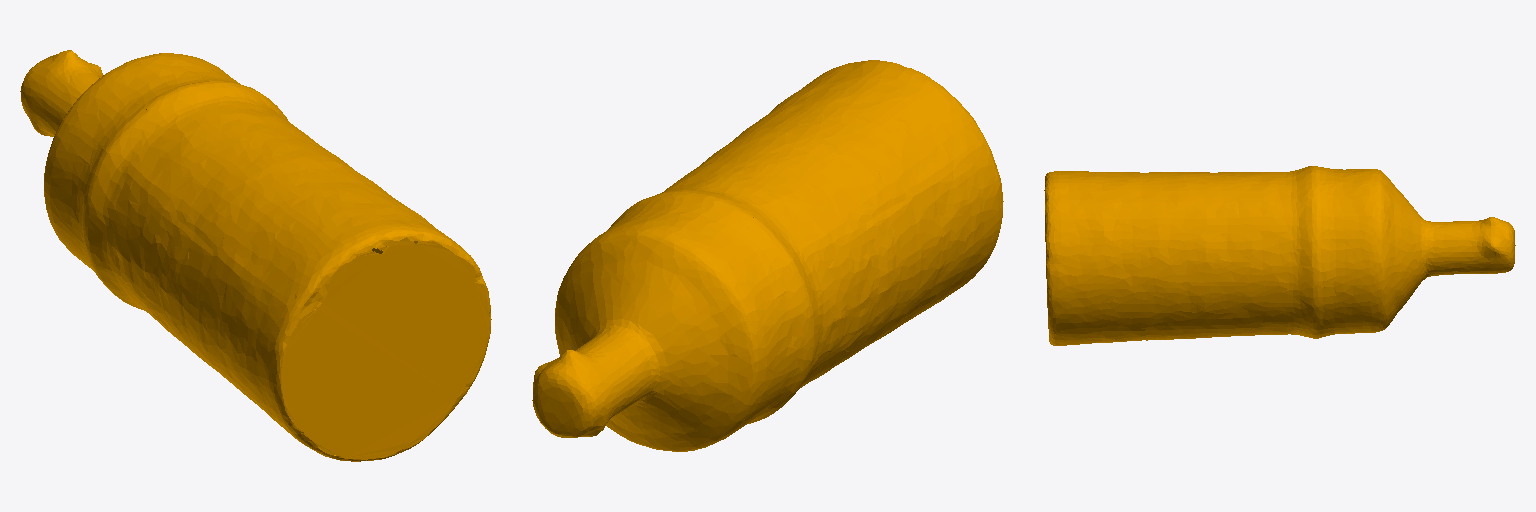
robot.urdf — saucebottle:
<?xml version="1.0" ?>
<!-- auto-generated by gen_object_urdf.py (TactiDex import) -->
<robot name="saucebottle">
  <link name="bottom">
    <inertial>
      <origin rpy="0 0 0" xyz="0.00010243769 -0.0043213832 -0.00010894224"/>
      <mass value="0.3"/>
      <inertia ixx="0.00054527728" ixy="6.8418971e-07" ixz="-3.5976885e-07"
               iyy="0.00012598923" iyz="-1.1894247e-05" izz="0.0005446421"/>
    </inertial>
    <visual>
      <origin rpy="0 0 0" xyz="0 0 0"/>
      <geometry><mesh filename="SauceBottle.obj" scale="1 1 1"/></geometry>
    </visual>
      <collision>
        <origin rpy="0 0 0" xyz="0 0 0"/>
        <geometry><mesh filename="collision_parts/part_000.obj" scale="1 1 1"/></geometry>
      </collision>
      <collision>
        <origin rpy="0 0 0" xyz="0 0 0"/>
        <geometry><mesh filename="collision_parts/part_001.obj" scale="1 1 1"/></geometry>
      </collision>
      <collision>
        <origin rpy="0 0 0" xyz="0 0 0"/>
        <geometry><mesh filename="collision_parts/part_002.obj" scale="1 1 1"/></geometry>
      </collision>
  </link>
</robot>

--- Render facts (derived) ---
Views: 3 orthographic renders of the robot side by side, from view 1: azimuth 30°, elevation 25°; view 2: azimuth 150°, elevation 25°; view 3: azimuth 270°, elevation 25°.
Model saucebottle with 1 links and 0 joints (none), rooted at bottom, posed all joints at 0.
Links seen in each view (by area): view 1: bottom; view 2: bottom; view 3: bottom.
Link boxes in pixels (x1,y1,x2,y2): bottom: (20,50,491,461); bottom: (532,60,1003,451); bottom: (1044,166,1515,345).
Size in the robot's own frame: 0.0604 by 0.1631 by 0.0629 metres.
1 mesh visuals loaded from 1 distinct referenced files (1 OBJ).
